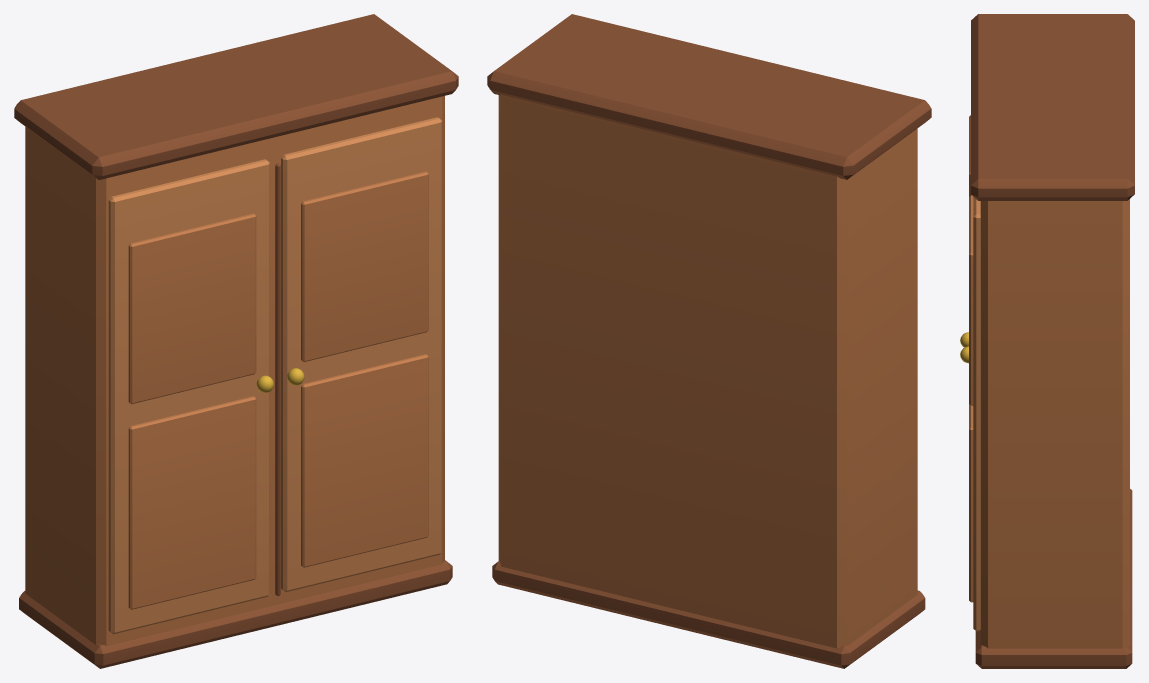
Rendered from guarda-roupa-classico.glb.
The picture shows the model from 3 angles, left to right: view 1: azimuth 30°, elevation 25°; view 2: azimuth 150°, elevation 25°; view 3: azimuth 270°, elevation 25°; orthographic projection. The views are drawn at different scales.
Visible parts, largest first — view 1: guarda-roupa; view 2: guarda-roupa; view 3: guarda-roupa.
Part boxes in pixels (left/top/right/bottom): guarda-roupa: left=14, top=14, right=458, bottom=668; guarda-roupa: left=487, top=14, right=931, bottom=668; guarda-roupa: left=960, top=14, right=1134, bottom=668.
Size of the model in its own units: 1.68 by 2.25 by 0.725.
